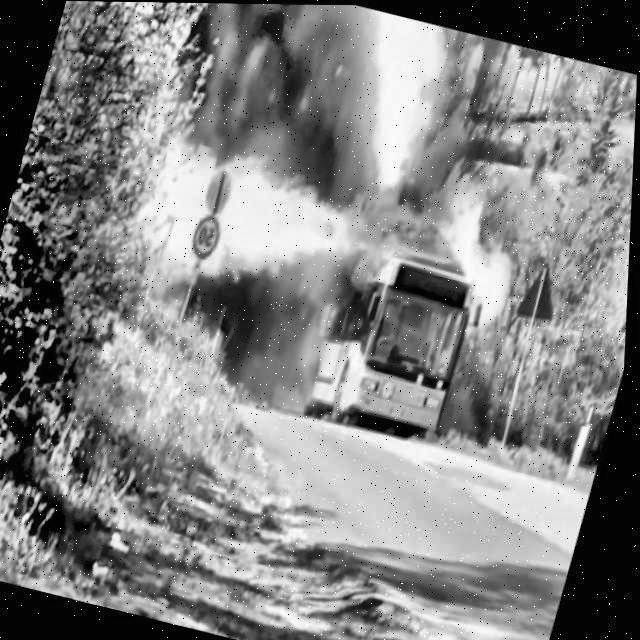Fire: (101, 130, 363, 299), (320, 5, 454, 186), (425, 183, 533, 326)
Smoke: (171, 237, 341, 426), (158, 2, 348, 164)
